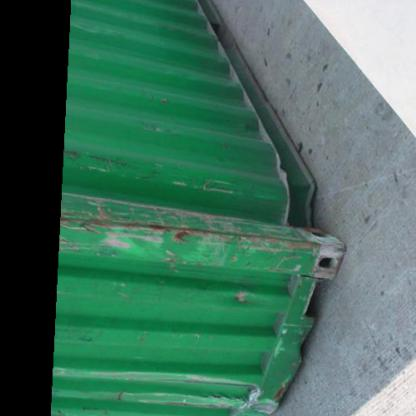Damage: (70, 212, 338, 274), (115, 373, 284, 415), (72, 146, 139, 184), (164, 173, 240, 200), (214, 290, 260, 312)
